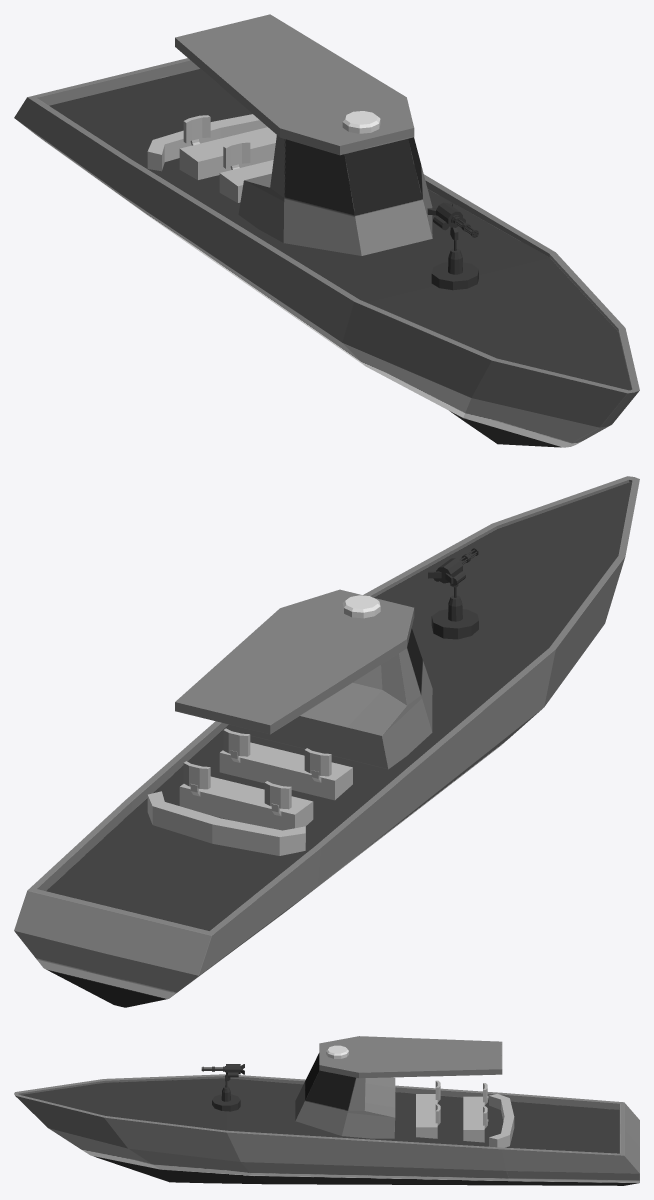
3 renders of one model, top to bottom at view 1: azimuth 30°, elevation 25°; view 2: azimuth 150°, elevation 25°; view 3: azimuth 270°, elevation 25°, orthographic. The views are drawn at different scales.
Parts seen in each view (by area): view 1: Cube, Cylinder.001, Cylinder, Cylinder.003; view 2: Cube, Cylinder.001, Cylinder; view 3: Cube, Cylinder.001, Cylinder, Cylinder.003.
Boxes of the visible parts, x1,y1,x2,y2 form: Cube: [14, 14, 639, 447]; Cylinder.001: [431, 262, 478, 290]; Cylinder: [342, 111, 380, 133]; Cylinder.003: [427, 202, 465, 230]; Cube: [14, 476, 639, 1007]; Cylinder.001: [431, 609, 478, 639]; Cylinder: [342, 595, 380, 618]; Cube: [14, 1036, 639, 1185]; Cylinder.001: [212, 1094, 240, 1111]; Cylinder: [326, 1045, 348, 1058]; Cylinder.003: [225, 1064, 244, 1077].
Bounding box in the file's own units: 91.46 × 98.4 × 415.
Materials: 3 (1 with a texture image).
